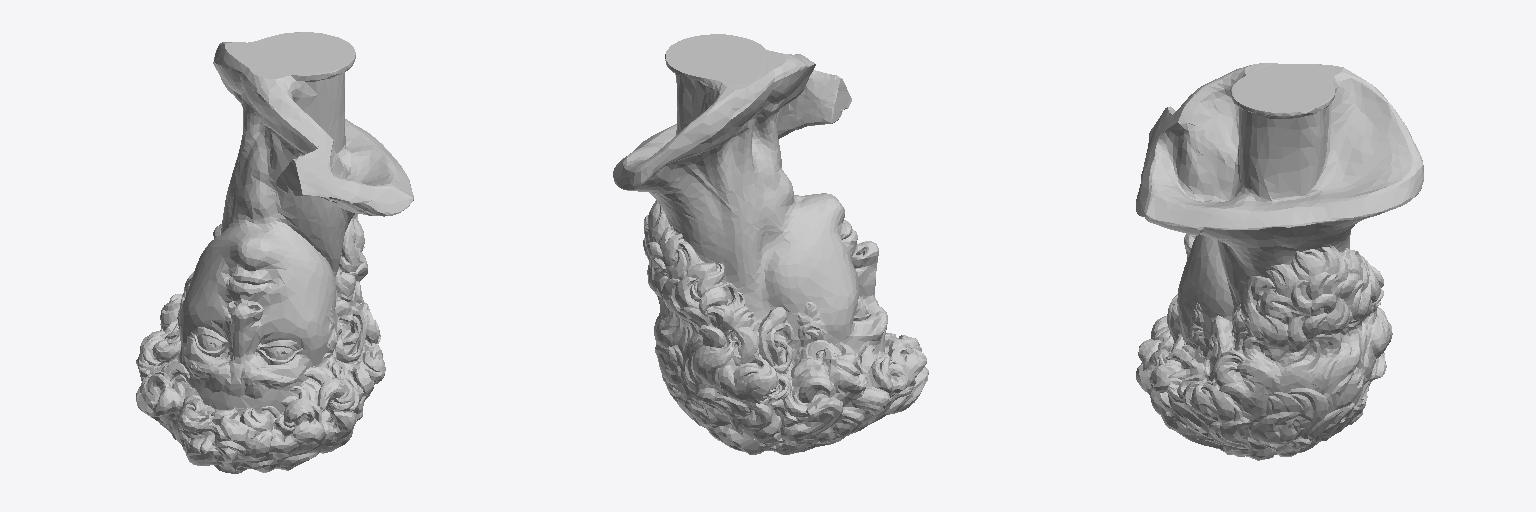
File: head-of-david.obj
The picture shows the model from 3 angles: view 1: azimuth 30°, elevation 25°; view 2: azimuth 150°, elevation 25°; view 3: azimuth 270°, elevation 25°; orthographic projection.
Visible parts, largest first — view 1: Smk55-Kas2232-Head-Of-David; view 2: Smk55-Kas2232-Head-Of-David; view 3: Smk55-Kas2232-Head-Of-David.
Part boxes in pixels (bbox=[...]): Smk55-Kas2232-Head-Of-David: bbox=[136, 32, 413, 473]; Smk55-Kas2232-Head-Of-David: bbox=[613, 34, 928, 454]; Smk55-Kas2232-Head-Of-David: bbox=[1136, 63, 1423, 460].
Bounding box in the file's own units: 133 × 200 × 138.